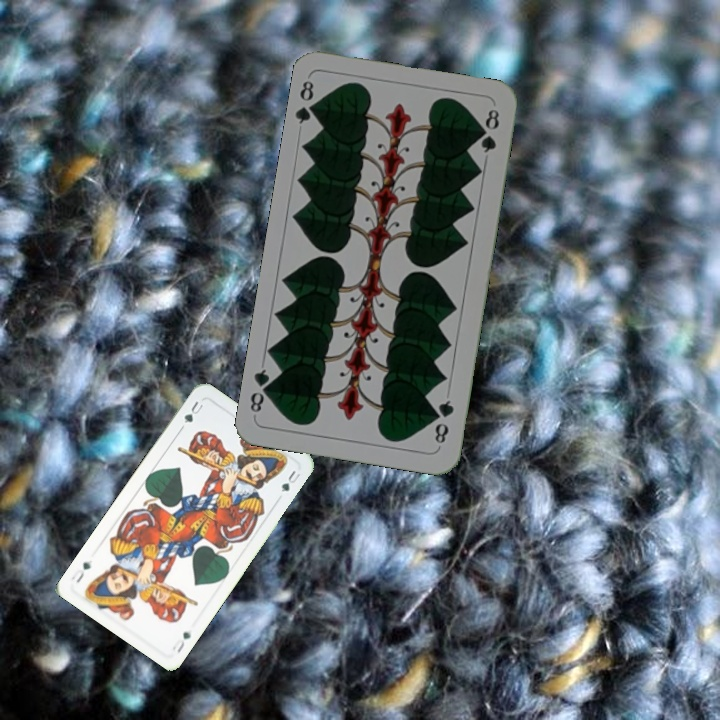G8: (292, 76, 322, 127), (430, 396, 457, 446)
GU: (177, 397, 206, 432), (168, 627, 193, 656)
